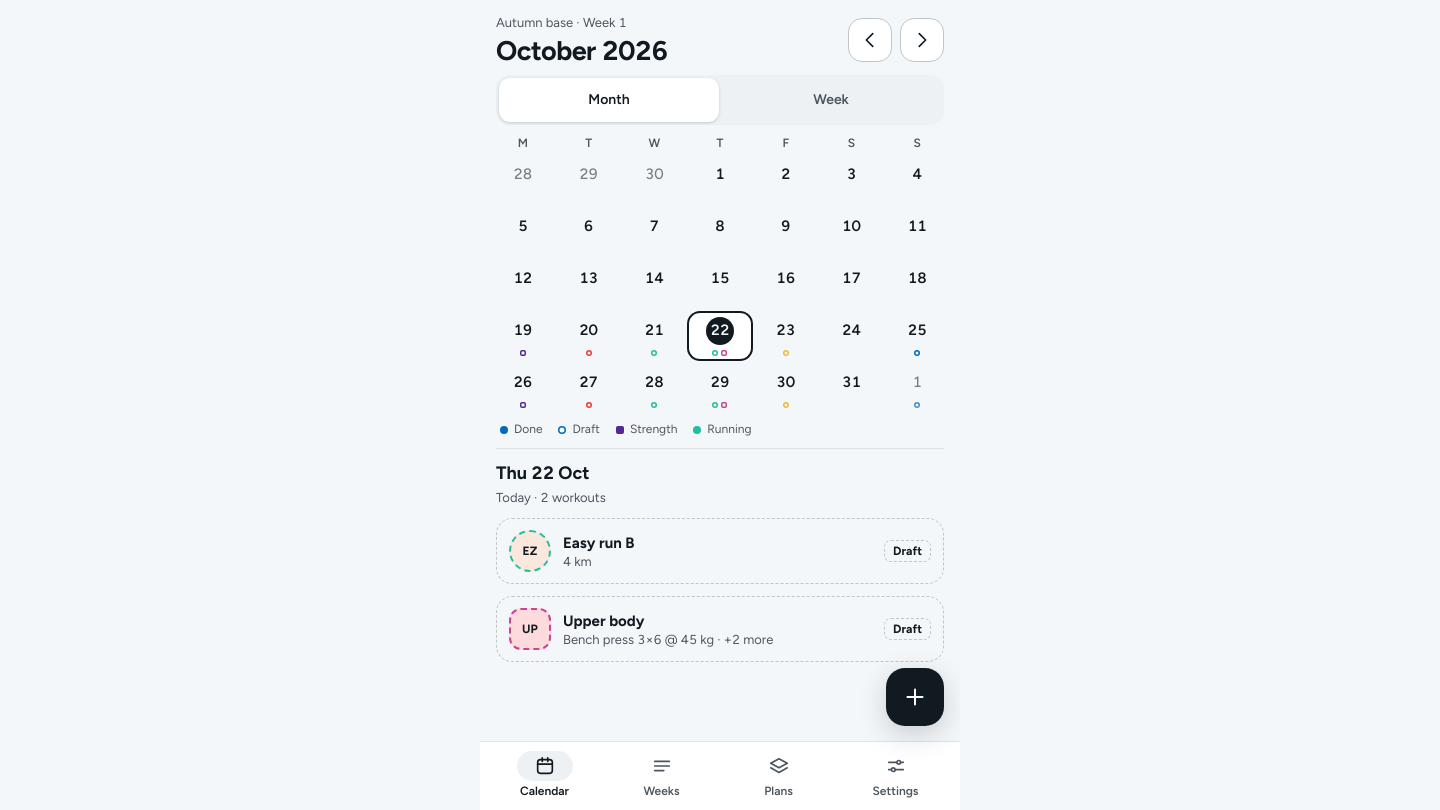
Test: dragging in the week view › offers the same move without dragging
The width and height of the screenshot is (1440, 810).
expect the heading "October 2026" is shown: met, box x1=496 y1=34 x2=668 y2=66
Click the button "Week" at (831, 100), box x1=721 y1=78 x2=941 y2=122
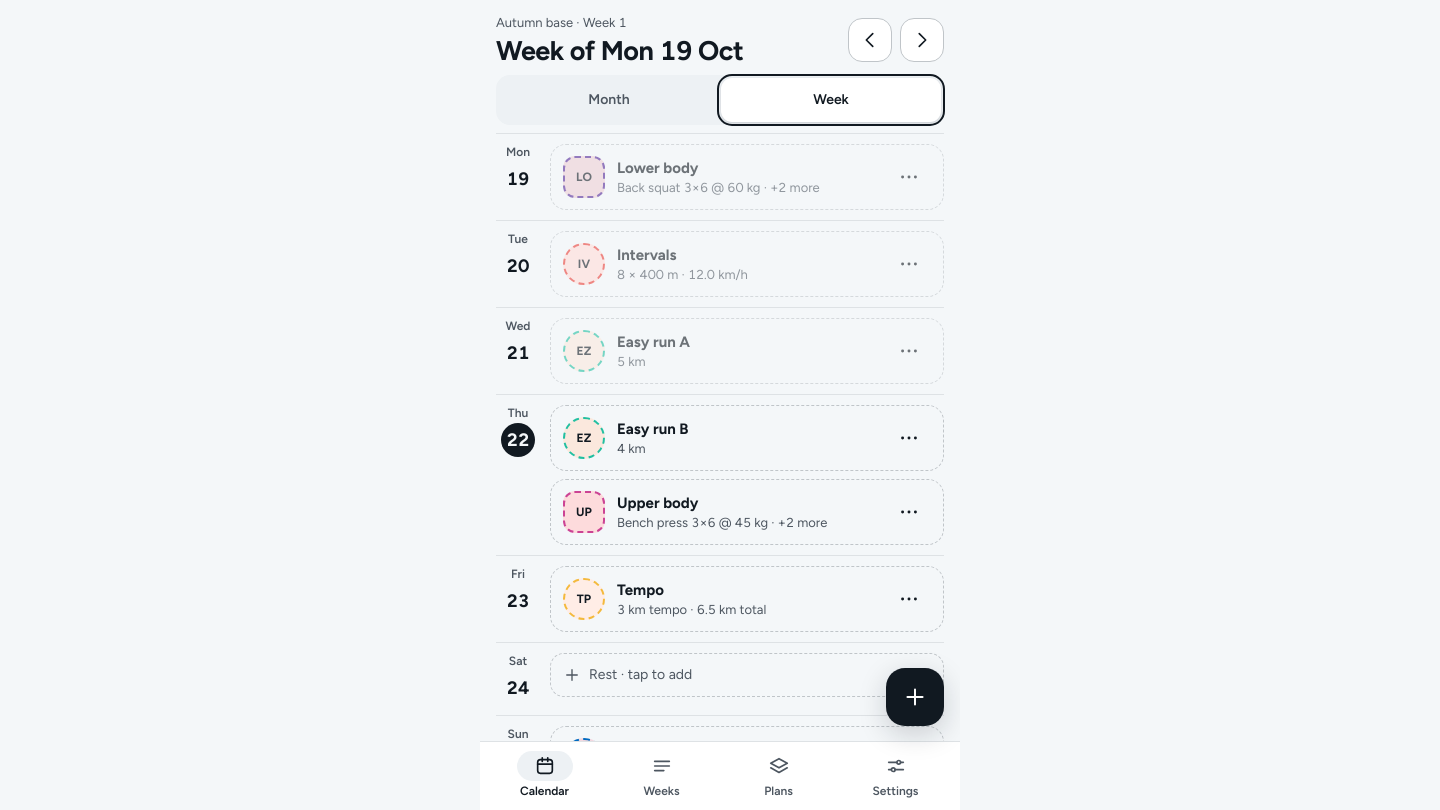
expect the heading "Week of Mon 19 Oct" is shown: met, box x1=496 y1=34 x2=743 y2=66
Click the button named "More actions for Easy run B" at (909, 438), box x1=887 y1=416 x2=931 y2=460
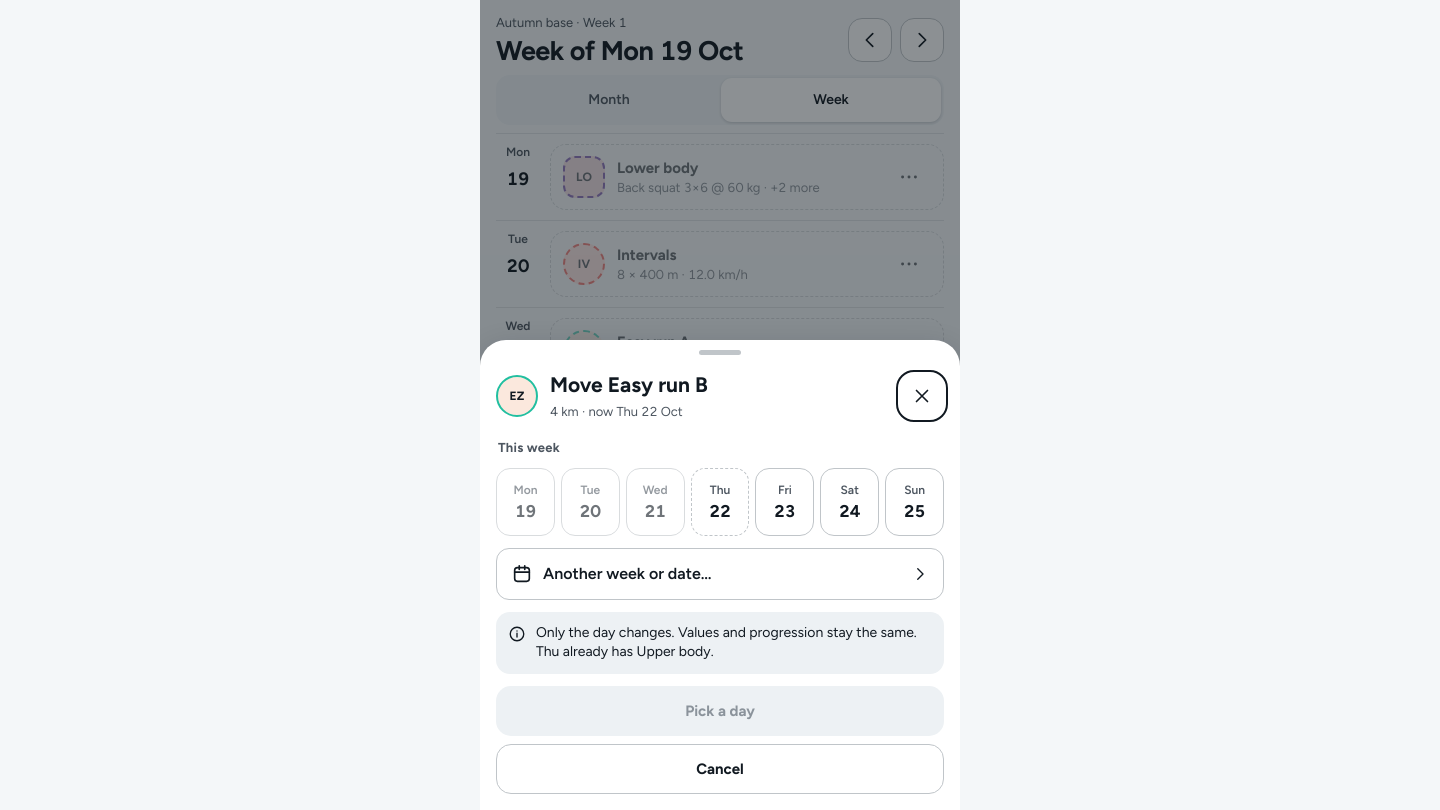
Click the button with aria-label "Fri 23 Oct" at (785, 502), box x1=755 y1=468 x2=814 y2=536
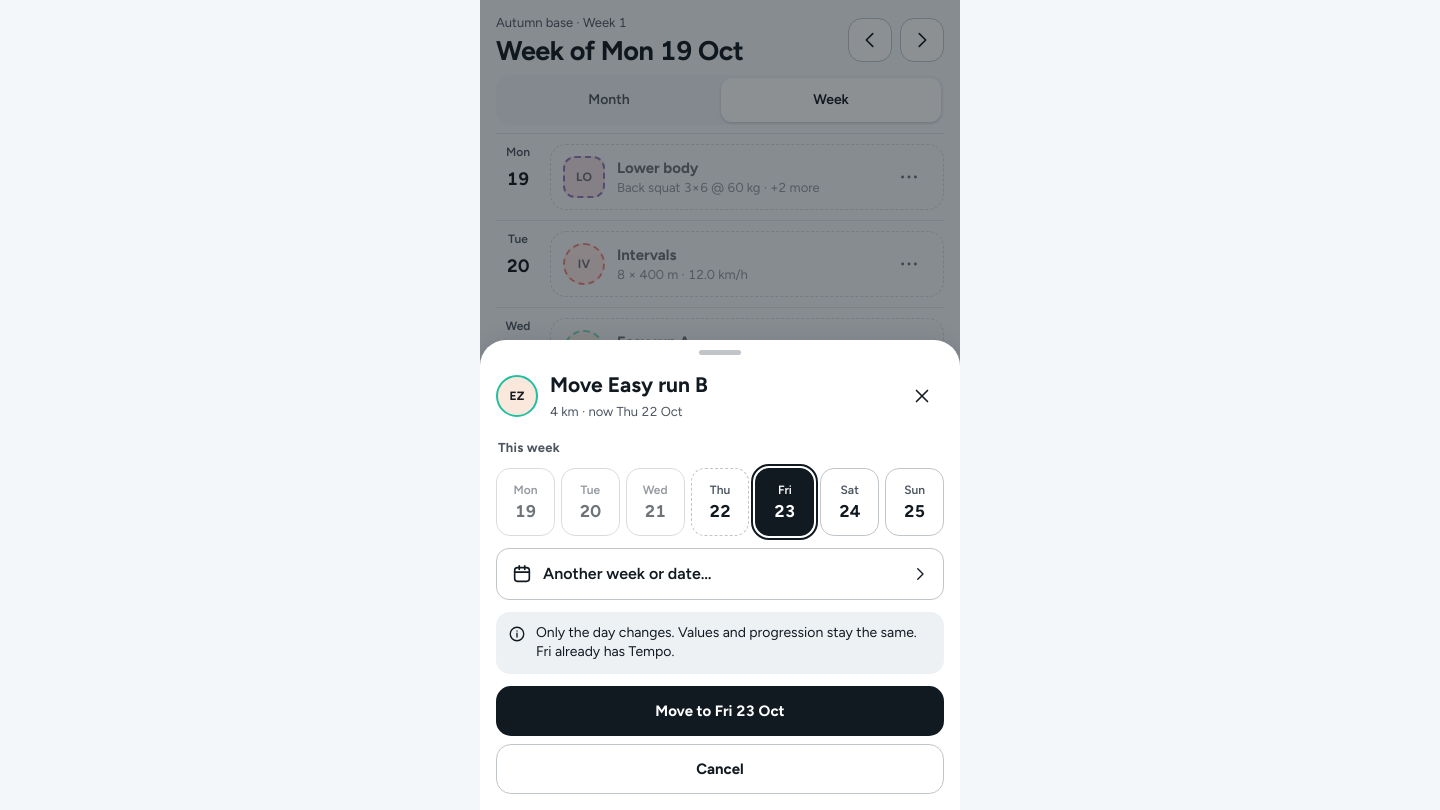
Click the button "Move to Fri 23 Oct" at (720, 711), box x1=496 y1=686 x2=944 y2=736
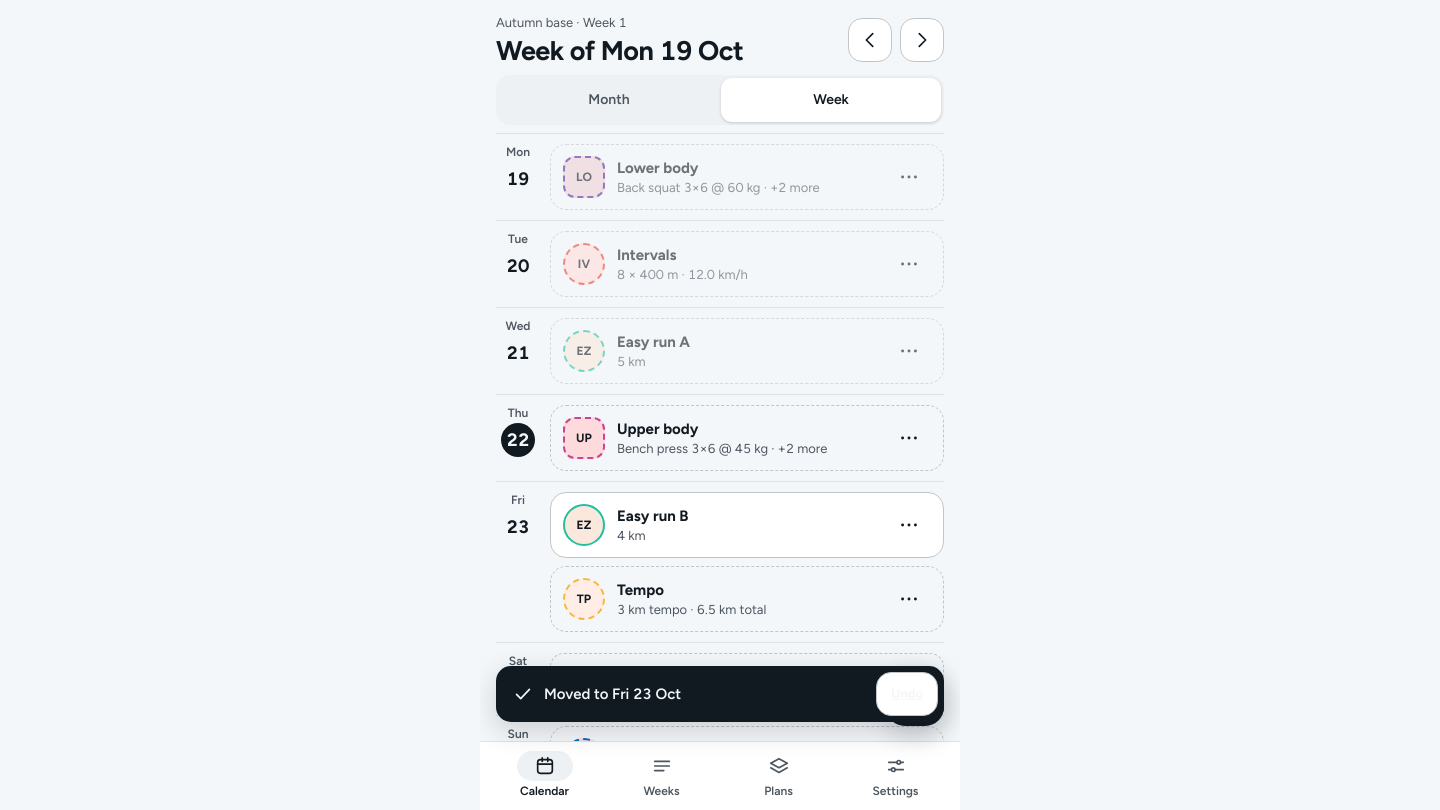
expect the text "Moved to Fri 23 Oct" is shown: met, box x1=544 y1=684 x2=681 y2=704
